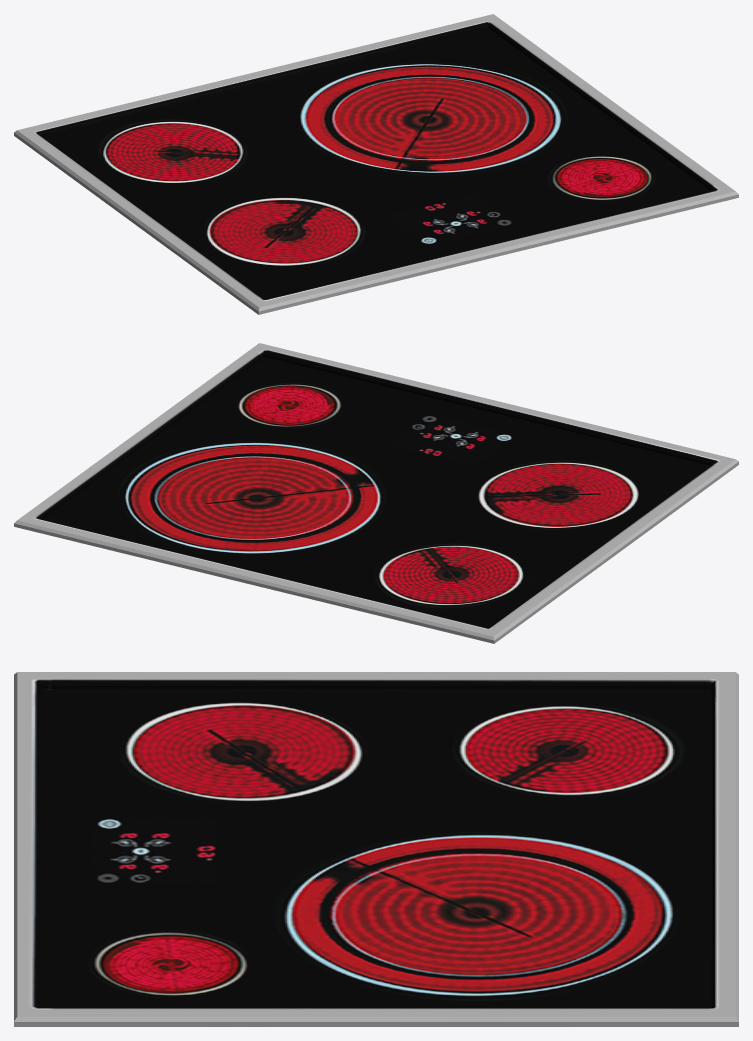
Rendered from Hotplate.FBX.
The picture shows the model from 3 angles, top to bottom: view 1: azimuth 30°, elevation 25°; view 2: azimuth 150°, elevation 25°; view 3: azimuth 270°, elevation 25°; orthographic projection. The views are drawn at different scales.
Parts seen in each view (by area): view 1: hotplate; view 2: hotplate; view 3: hotplate.
Boxes of the visible parts, x1,y1,x2,y2 form: hotplate: (14, 14, 738, 314); hotplate: (14, 343, 738, 643); hotplate: (14, 672, 738, 1026).
Bounding box in the file's own units: 59.96 × 0.7096 × 52.9.
Materials: 1 (1 with a texture image).
